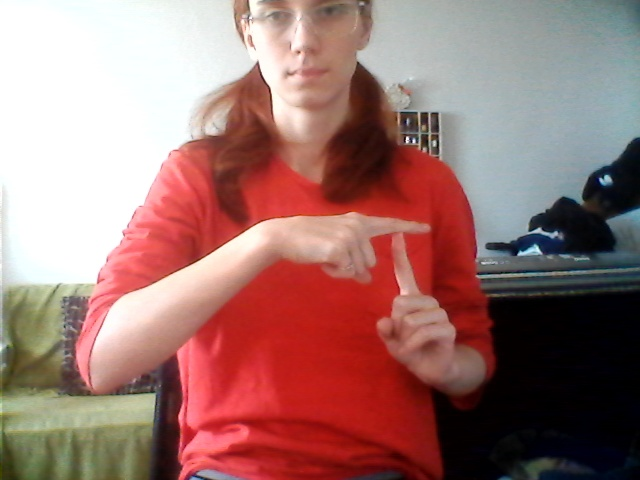t: (293, 200, 465, 385)
